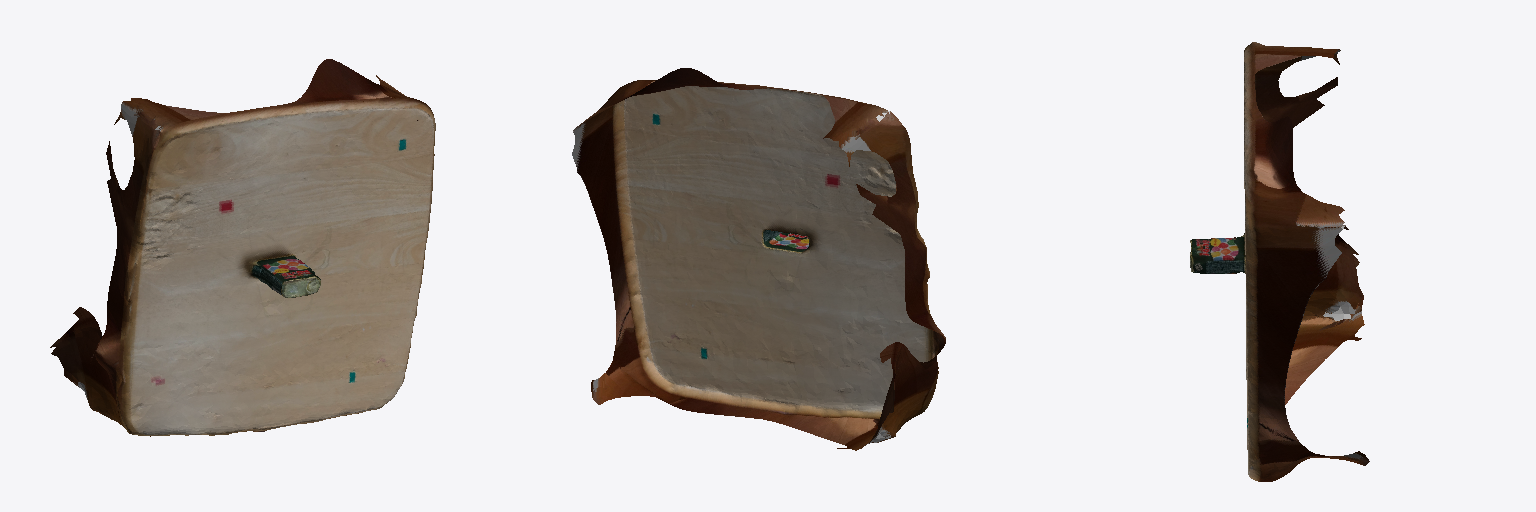
3 views of the same model, side by side, from view 1: azimuth 30°, elevation 25°; view 2: azimuth 150°, elevation 25°; view 3: azimuth 270°, elevation 25° (orthographic).
Visible parts, largest first — view 1: mmGroup0; view 2: mmGroup0; view 3: mmGroup0.
Part boxes in pixels (left/top/right/bottom): mmGroup0: left=50, top=59, right=435, bottom=436; mmGroup0: left=572, top=68, right=945, bottom=450; mmGroup0: left=1190, top=42, right=1369, bottom=481.
Size of the model in its own units: 25.69 by 25.3 by 11.88.
2 materials, 2 textured.